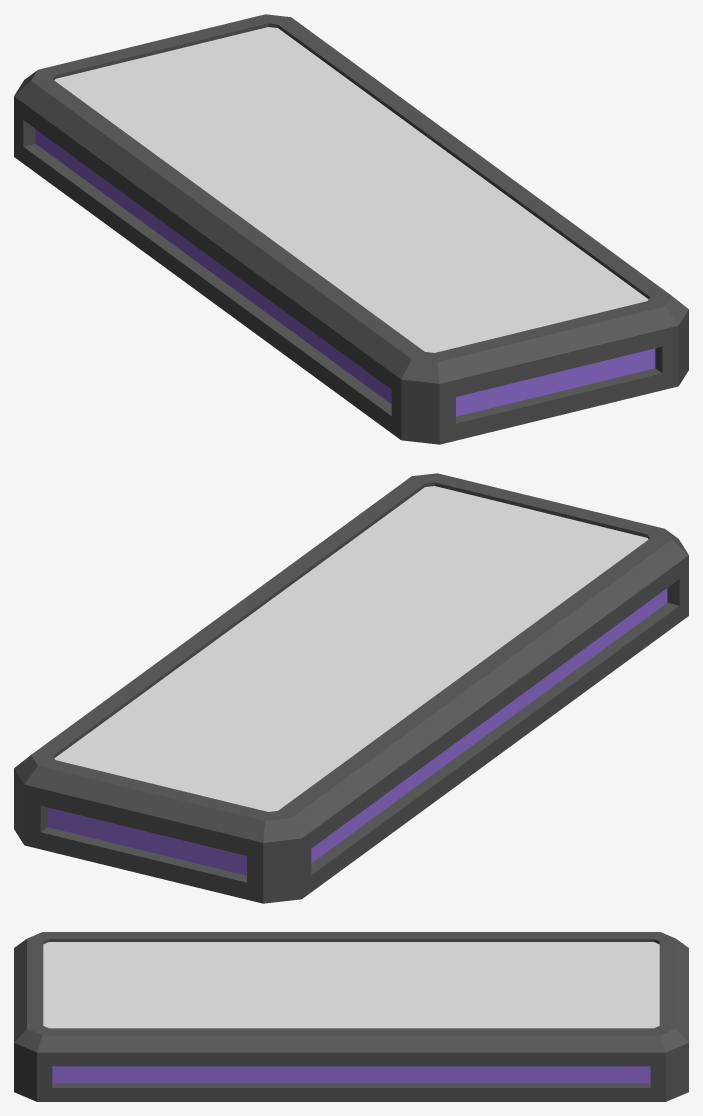
The picture shows the model from 3 angles, top to bottom: view 1: azimuth 30°, elevation 25°; view 2: azimuth 150°, elevation 25°; view 3: azimuth 270°, elevation 25°; orthographic projection. The views are drawn at different scales.
Parts seen in each view (by area): view 1: Cube; view 2: Cube; view 3: Cube.
Boxes of the visible parts, x1,y1,x2,y2 form: Cube: (14, 14, 688, 444); Cube: (14, 473, 688, 903); Cube: (14, 932, 688, 1101).
Bounding box in the file's own units: 400 × 100 × 1000.
